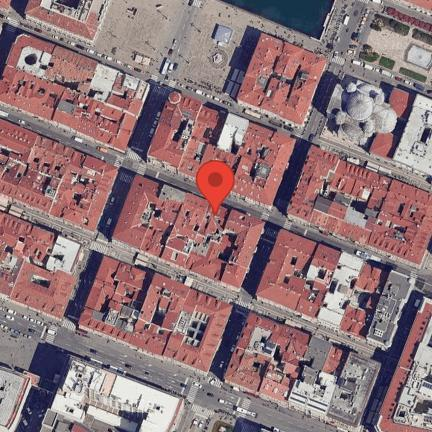area_open: (164, 0, 250, 96), (93, 0, 191, 78), (354, 14, 431, 94), (0, 323, 44, 372)
built: (252, 228, 413, 353), (0, 30, 155, 154), (111, 171, 268, 290), (225, 312, 380, 431), (147, 89, 299, 209), (79, 252, 231, 372), (287, 143, 431, 266), (1, 118, 120, 234), (320, 66, 431, 181), (35, 357, 187, 431), (0, 210, 85, 323), (240, 30, 331, 129), (376, 295, 431, 430), (26, 0, 112, 41), (2, 365, 31, 431)
